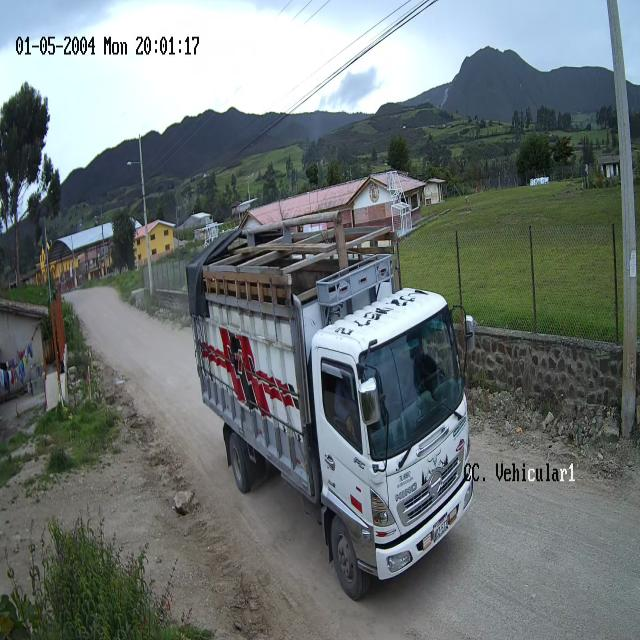TRUCK: (186, 230, 477, 602)
